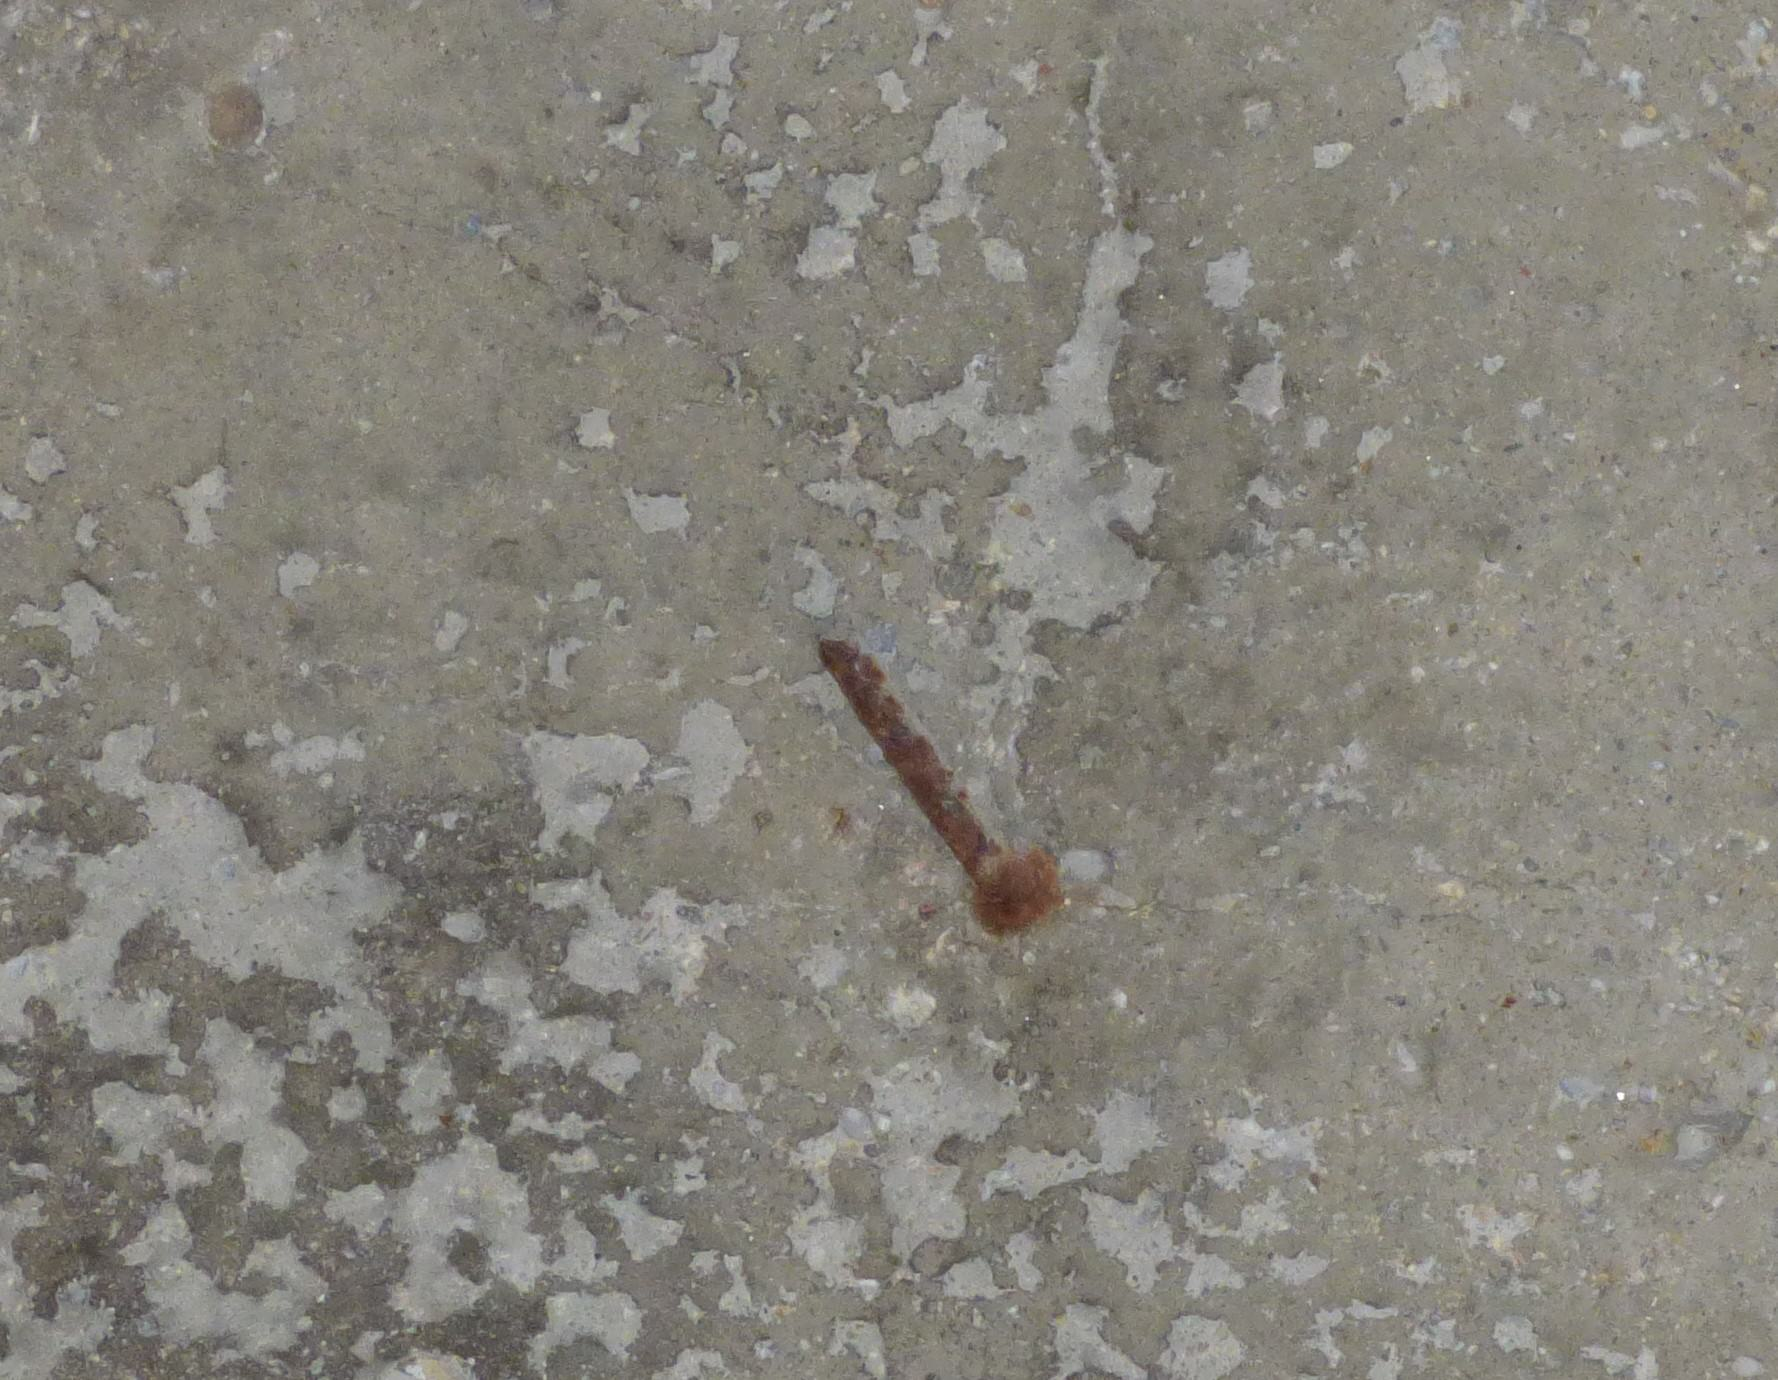Corrosion: (967, 847, 1065, 938)
Exposed reinforcement: (817, 635, 1012, 898)
